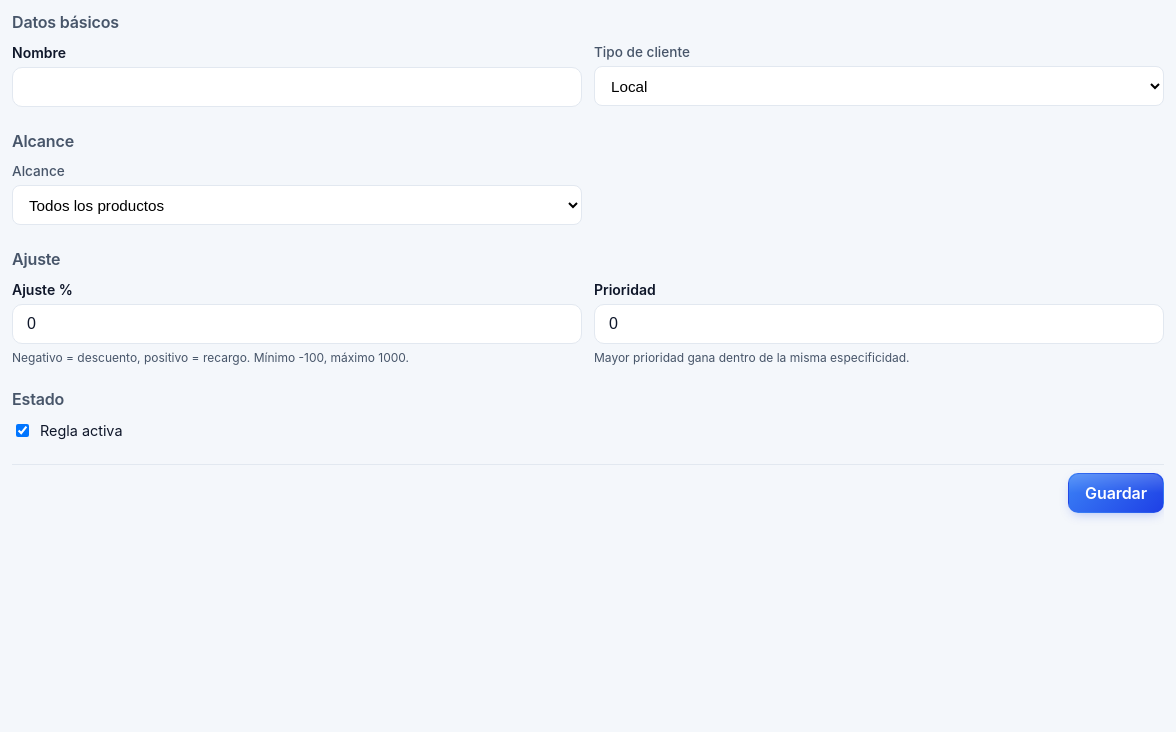
Test case: PricingRuleForm › shows productType when scope is PRODUCT_TYPE
Select "Tipo de producto" in the dropdown labelled "Alcance": coordinates (297, 205) [12, 185, 582, 225]
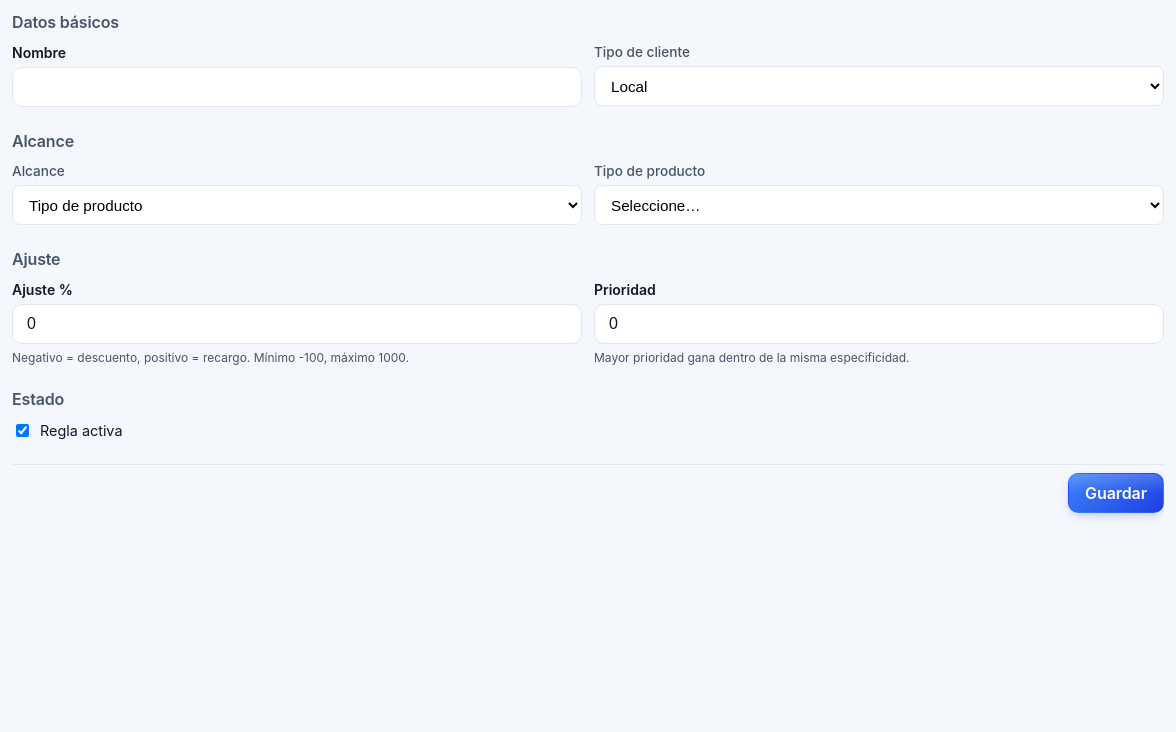
Check: the dropdown labelled "Tipo de producto" is shown, box [594, 185, 1164, 225]
